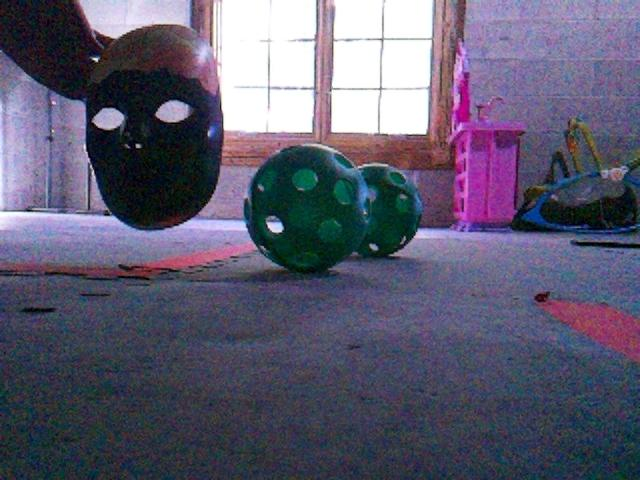Green: (245, 145, 370, 272), (352, 164, 424, 257)
